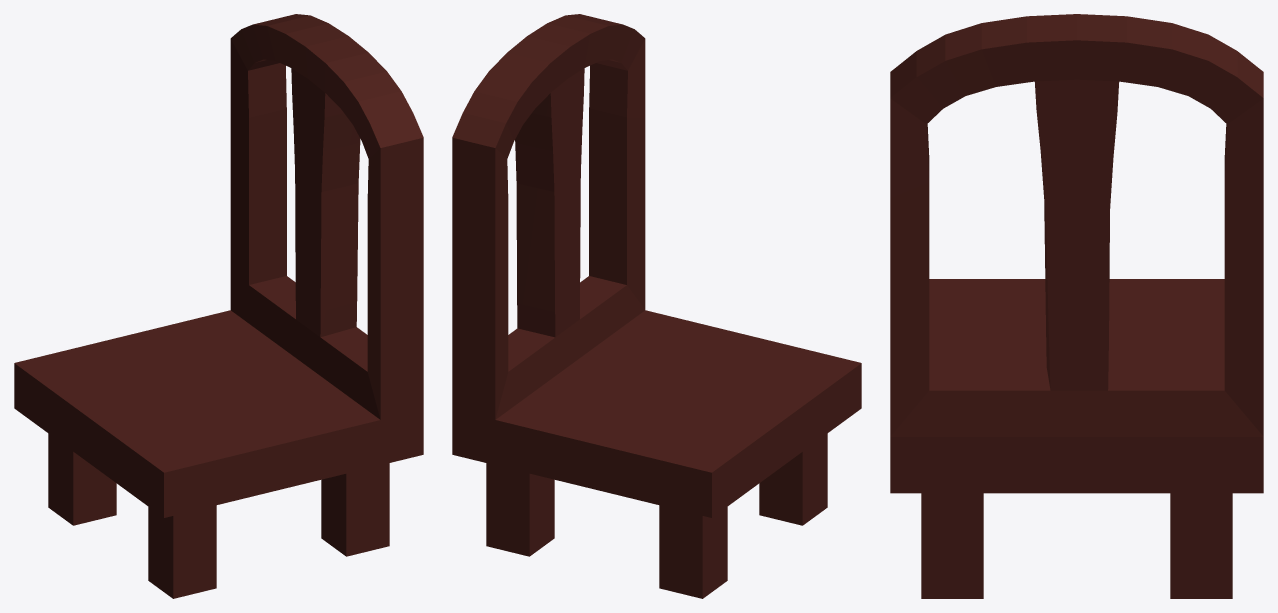
File: chair1.obj
3 renders of one model, left to right at view 1: azimuth 30°, elevation 25°; view 2: azimuth 150°, elevation 25°; view 3: azimuth 270°, elevation 25°, orthographic. The views are drawn at different scales.
Visible parts, largest first — view 1: Cube.005; view 2: Cube.005; view 3: Cube.005.
Part boxes in pixels (x1=…): Cube.005: x1=14, y1=14, x2=423, y2=598; Cube.005: x1=452, y1=14, x2=861, y2=598; Cube.005: x1=890, y1=14, x2=1263, y2=598.
Size of the model in its own units: 0.6 by 1.01 by 0.6.
